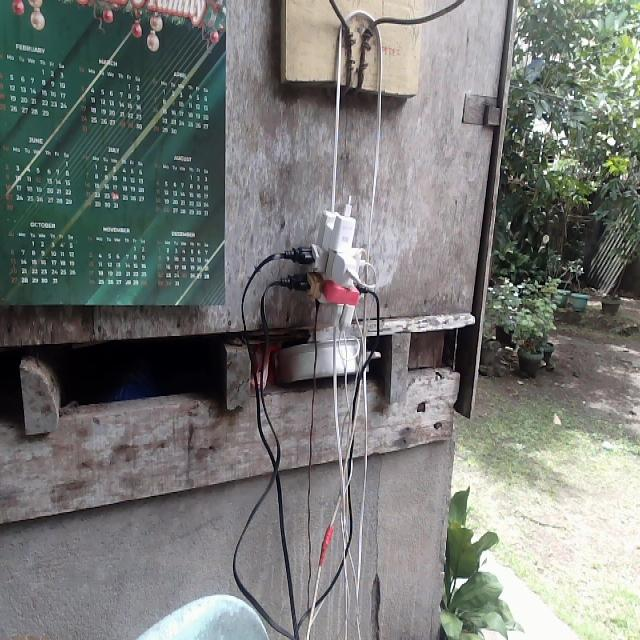-: (271, 183, 381, 348)
